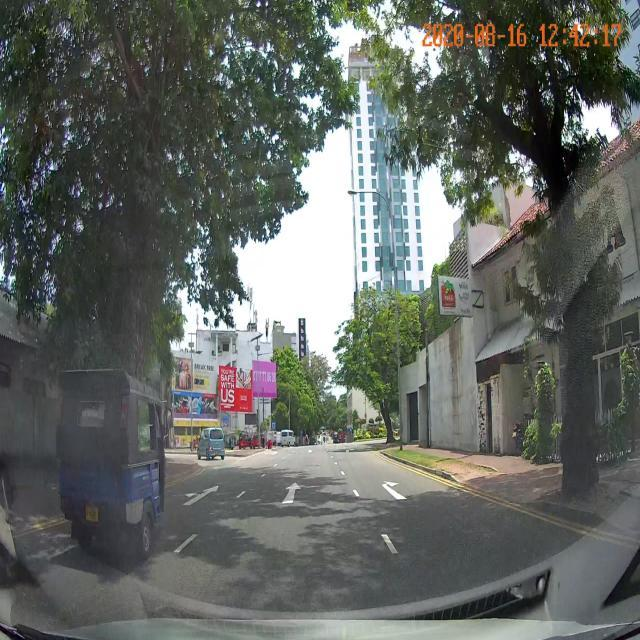forward: (215, 468, 374, 516)
right: (343, 466, 485, 517)
